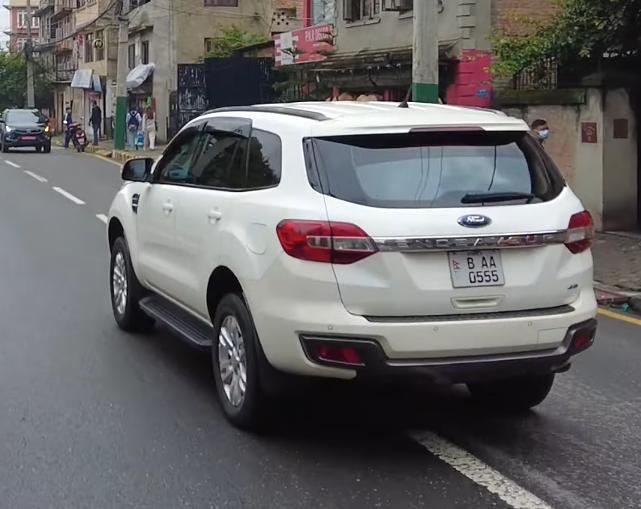SUV: (88, 91, 618, 434)
car: (0, 105, 54, 157)
